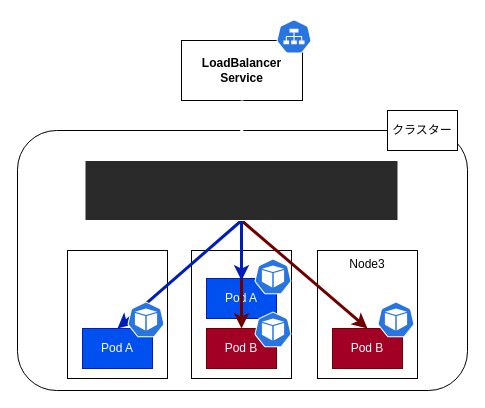
This 485x408 diagram has some shape labels left out. The box of each missing label's shape, as (x1, y1, x2, y2) in pixels:
Ingress Controller /path1: Service A /path2: Service B: (84, 160, 398, 220)
Node1: (66, 250, 168, 378)
Node2: (190, 250, 292, 378)
